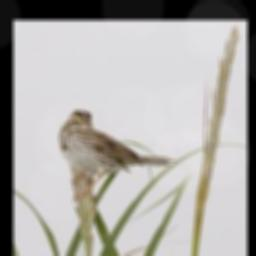Sparrow: (58, 107, 179, 201)
